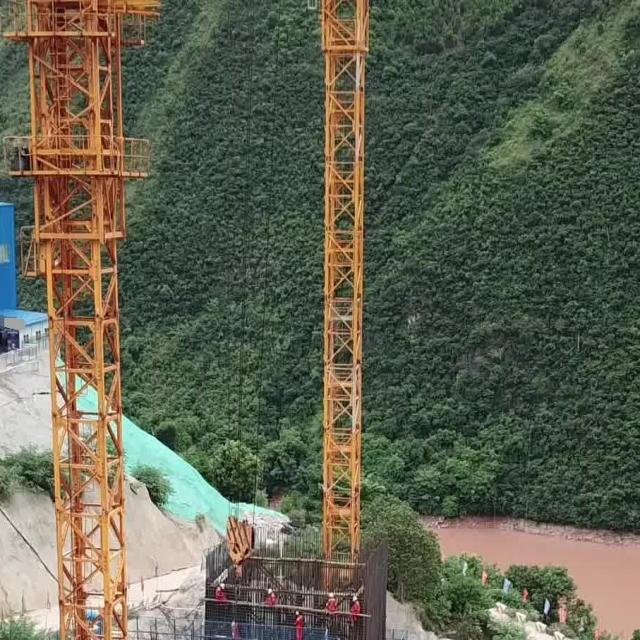crane: (0, 0, 170, 640), (316, 0, 376, 640)
